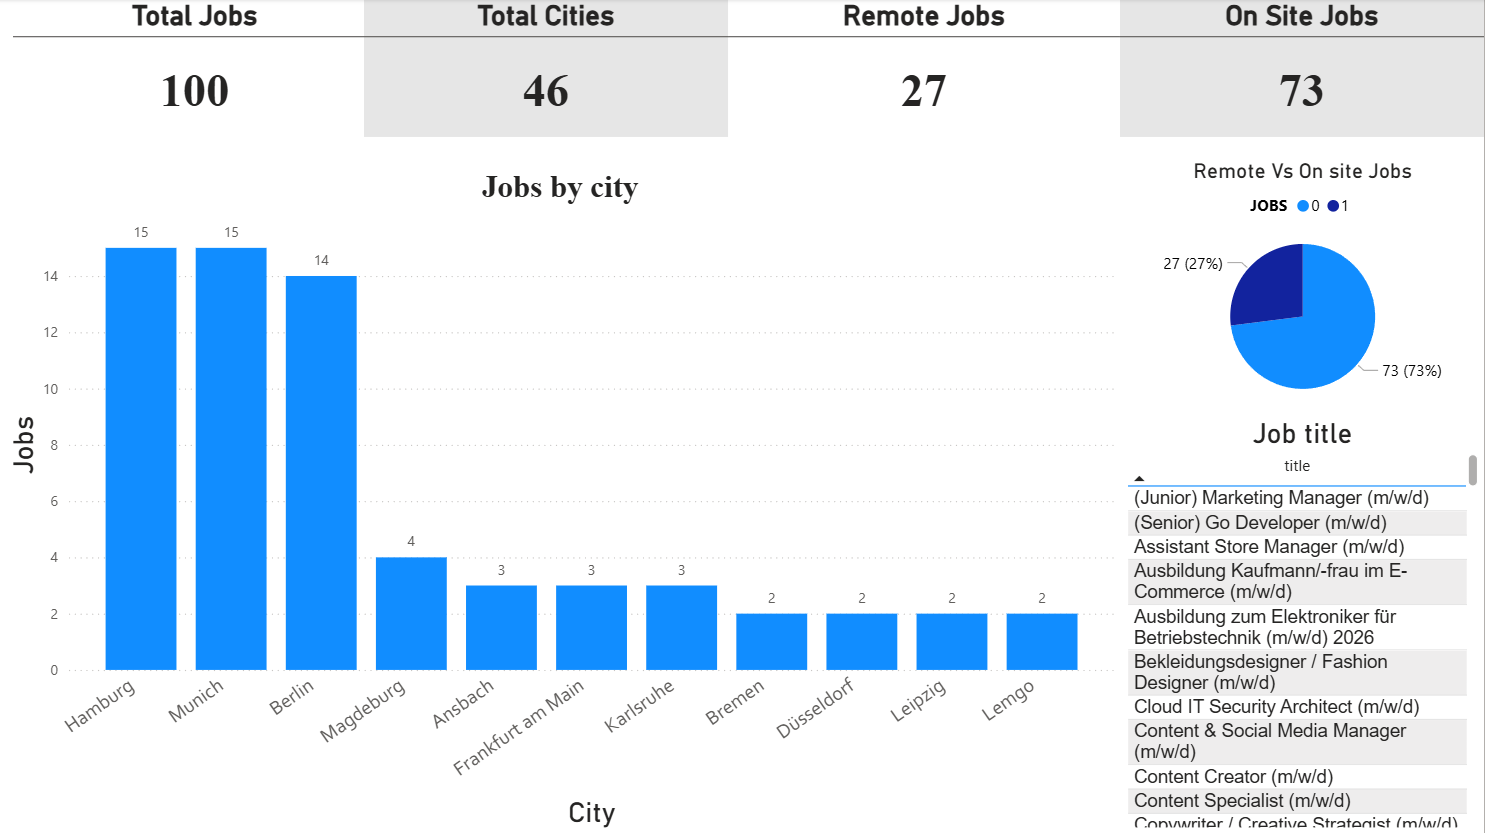

The dashboard page shown, as its layout file describes it:
{"tool":"powerbi","page":{"name":"Jobs by city","canvas":[1280,720],"ordinal":1},"visuals":[{"type":"columnChart","title":"Jobs by city","fields":{"Category":["public jobs_silver.city"],"Y":["Count(public jobs_silver.job_id)"]},"box":[0,146.9,966.5,573.1],"z":0},{"type":"card","title":"Total Jobs","fields":{"Values":["CountNonNull(public jobs_silver.job_id)"]},"box":[11.4,0,313.5,119.2],"z":1000},{"type":"card","title":"Remote Jobs","fields":{"Values":["CountNonNull(public jobs_silver.remote)"]},"box":[628,0,338,118.5],"z":2000},{"type":"card","title":"Total Cities","fields":{"Values":["Count(public jobs_silver.city)"]},"box":[314,0,314,118.5],"z":3000},{"type":"card","title":"On Site Jobs","fields":{"Values":["CountNonNull(public jobs_silver.remote)"]},"box":[966,0,314,118.5],"z":4000},{"type":"tableEx","title":"Job title","fields":{"Values":["public jobs_silver.title"]},"box":[966.5,360.8,313.5,359.2],"z":5000},{"type":"pieChart","title":"Remote Vs On site Jobs","fields":{"Y":["CountNonNull(public jobs_silver.job_id)"],"Category":["public jobs_silver.remote"]},"box":[966.5,137.1,313.5,223.7],"z":6000}]}

Visuals, with their boxes in screenshot pixels (x1, y1, x2, y2), scaled from the page's 1280x720 canvas onto the 1485x833 screenshot:
"Jobs by city" columnChart: box=[0, 170, 1121, 832]
"Total Jobs" card: box=[13, 0, 377, 138]
"Remote Jobs" card: box=[729, 0, 1121, 137]
"Total Cities" card: box=[364, 0, 729, 137]
"On Site Jobs" card: box=[1121, 0, 1484, 137]
"Job title" tableEx: box=[1121, 417, 1484, 832]
"Remote Vs On site Jobs" pieChart: box=[1121, 159, 1484, 417]
